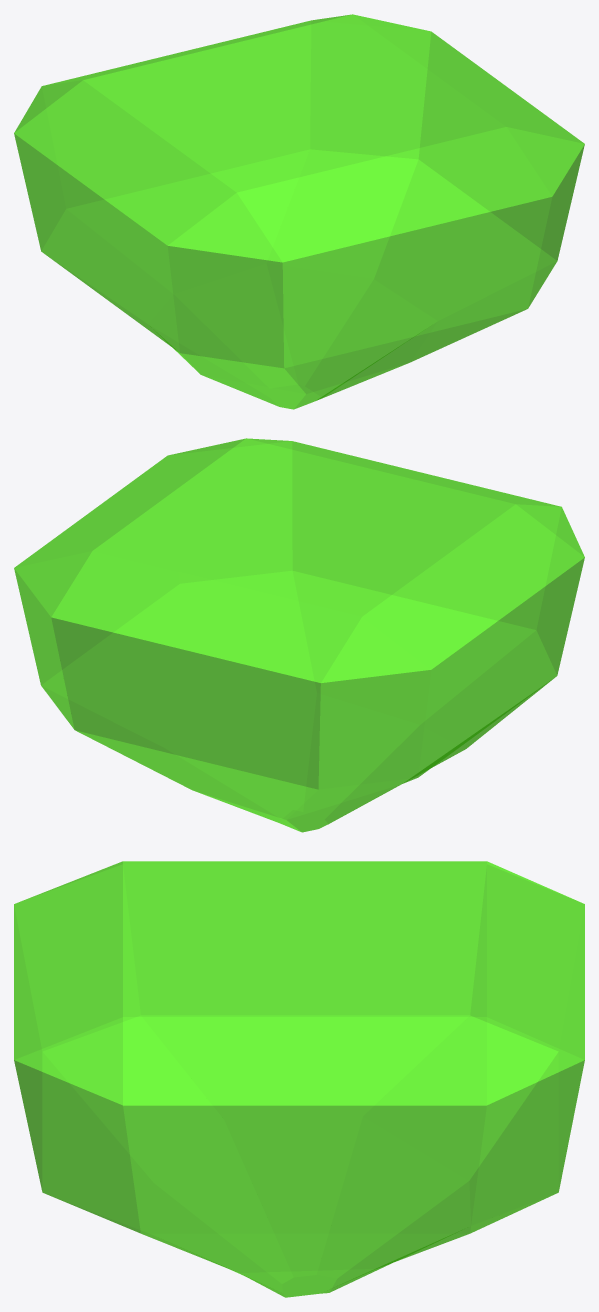
File: Gem.fbx
The picture shows the model from 3 angles, top to bottom: view 1: azimuth 30°, elevation 25°; view 2: azimuth 150°, elevation 25°; view 3: azimuth 270°, elevation 25°; orthographic projection. The views are drawn at different scales.
Visible parts, largest first — view 1: Cube; view 2: Cube; view 3: Cube.
Part boxes in pixels (box(x1,y1,x2,y2)): Cube: box(14, 14, 584, 409); Cube: box(14, 438, 584, 832); Cube: box(14, 861, 584, 1297).
Size of the model in its own units: 200 by 136 by 200.
